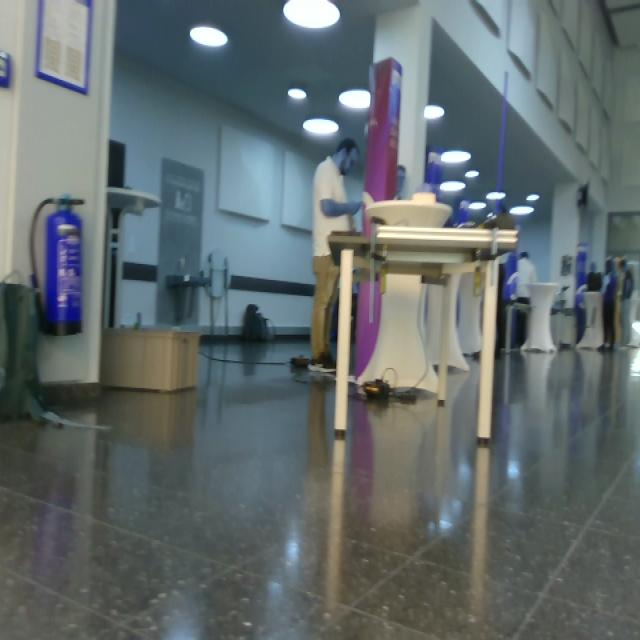door: (1, 1, 117, 388)
light bulb: (283, 1, 341, 30), (190, 25, 229, 49), (339, 89, 372, 110), (303, 117, 339, 136), (441, 150, 471, 164), (424, 105, 445, 120), (440, 181, 466, 192), (510, 205, 534, 216), (288, 88, 307, 100), (486, 192, 506, 201), (469, 201, 487, 210), (465, 169, 480, 178), (527, 193, 540, 201), (632, 321, 640, 334)
person: (310, 137, 366, 369), (598, 257, 619, 352)
table: (327, 206, 522, 449)
tiled floor: (2, 336, 639, 638)
